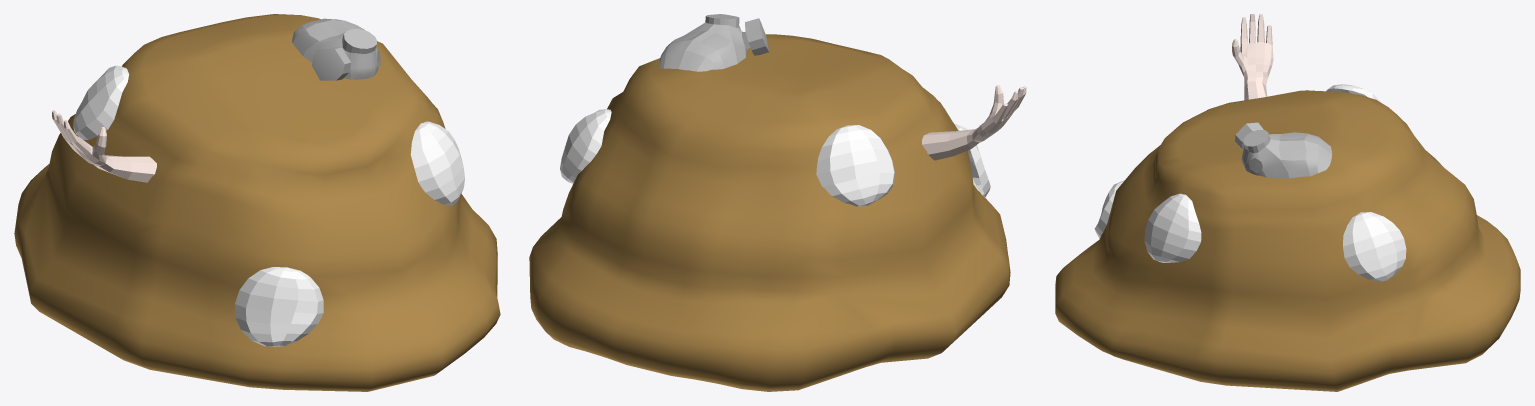
Rendered from MarthaMesh.fbx.
3 renders of one model, left to right at view 1: azimuth 30°, elevation 25°; view 2: azimuth 150°, elevation 25°; view 3: azimuth 270°, elevation 25°, orthographic. The views are drawn at different scales.
Visible parts, largest first — view 1: Group23986, pSphere2, Gas_MAsk, pSphere3, pSphere1, base; view 2: Group23986, pSphere1, Gas_MAsk, base, pSphere4, pSphere2; view 3: Group23986, Gas_MAsk, pSphere4, pSphere3, base, pSphere2.
Boxes of the visible parts, bbox=[...] form: Group23986: bbox=[14, 14, 500, 391]; pSphere2: bbox=[235, 267, 323, 346]; Gas_MAsk: bbox=[292, 18, 380, 80]; pSphere3: bbox=[410, 121, 464, 205]; pSphere1: bbox=[73, 65, 128, 140]; base: bbox=[52, 110, 156, 182]; Group23986: bbox=[529, 34, 1010, 391]; pSphere1: bbox=[816, 125, 894, 206]; Gas_MAsk: bbox=[660, 14, 768, 71]; base: bbox=[922, 85, 1026, 160]; pSphere4: bbox=[560, 109, 611, 183]; pSphere2: bbox=[954, 124, 990, 197]; Group23986: bbox=[1055, 90, 1520, 391]; Gas_MAsk: bbox=[1235, 122, 1332, 178]; pSphere4: bbox=[1343, 212, 1406, 282]; pSphere3: bbox=[1144, 193, 1201, 262]; base: bbox=[1232, 14, 1273, 100]; pSphere2: bbox=[1094, 180, 1124, 238].
Bounding box in the file's own units: 3.14 × 1.8 × 3.48.
